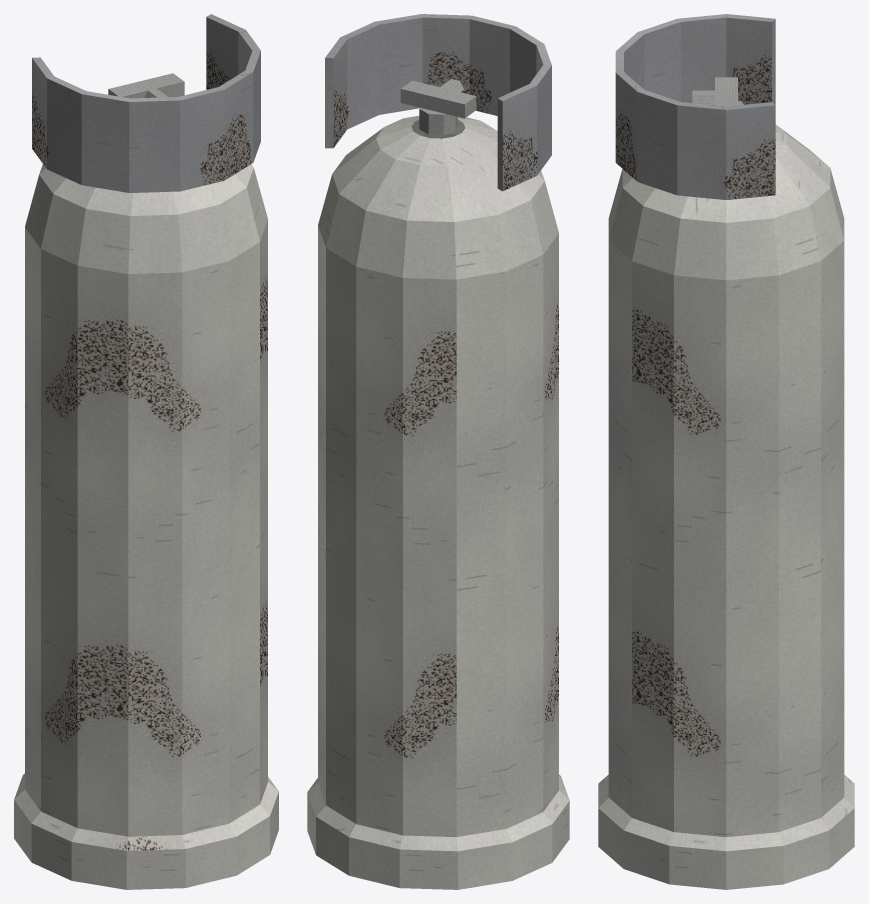
The model's file is propane.glb.
The picture shows the model from 3 angles, left to right: view 1: azimuth 30°, elevation 25°; view 2: azimuth 150°, elevation 25°; view 3: azimuth 270°, elevation 25°; orthographic projection.
Parts seen in each view (by area): view 1: NC_propane; view 2: NC_propane; view 3: NC_propane.
Boxes of the visible parts, box(x1,y1,x2,y2) form: NC_propane: box(14, 14, 278, 889); NC_propane: box(307, 14, 569, 889); NC_propane: box(598, 14, 854, 889).
Size of the model in its own units: 0.37 by 1.2 by 0.3607.
Materials: 3 (3 with a texture image).
